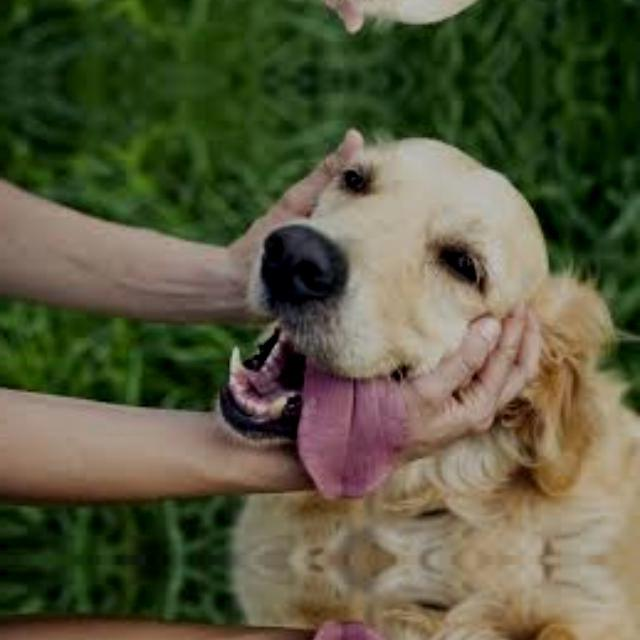dog: (226, 106, 592, 560), (226, 559, 592, 640), (226, 0, 592, 53)
